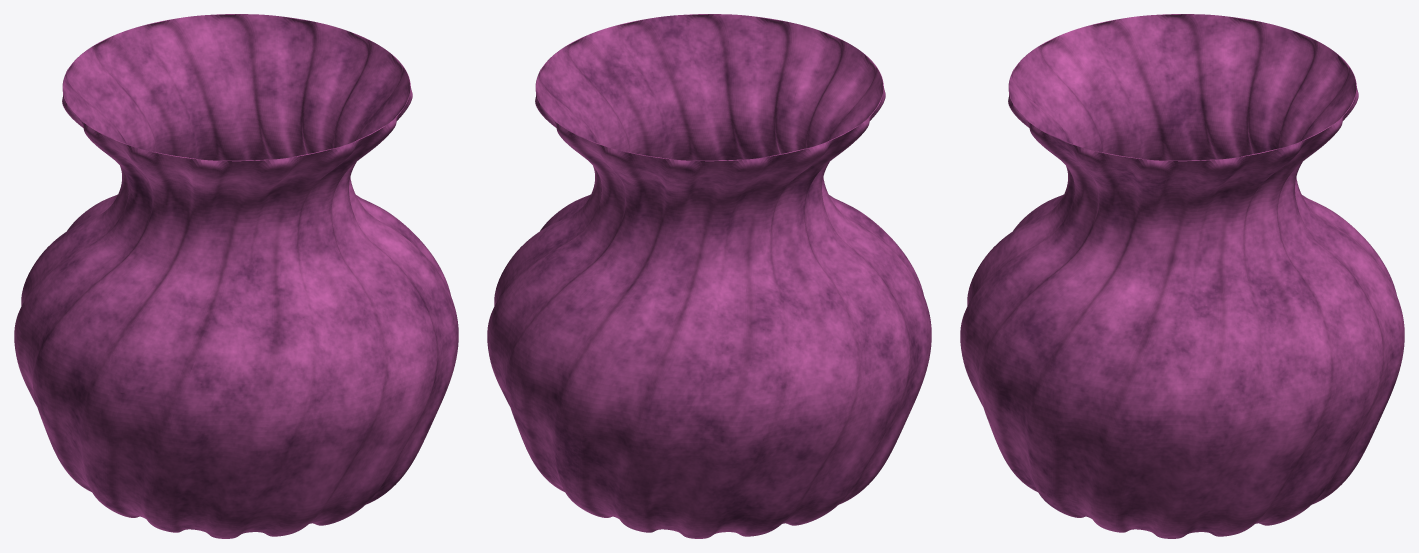
File: flowers.glb
3 views of the same model, side by side, from view 1: azimuth 30°, elevation 25°; view 2: azimuth 150°, elevation 25°; view 3: azimuth 270°, elevation 25° (orthographic).
Visible parts, largest first — view 1: Pot; view 2: Pot; view 3: Pot.
Part boxes in pixels (x1=…): Pot: x1=14, y1=14, x2=458, y2=538; Pot: x1=487, y1=14, x2=931, y2=538; Pot: x1=960, y1=14, x2=1404, y2=538.
Size of the model in its own units: 6.47 by 6.38 by 6.49.
Materials: 1 (1 with a texture image).
